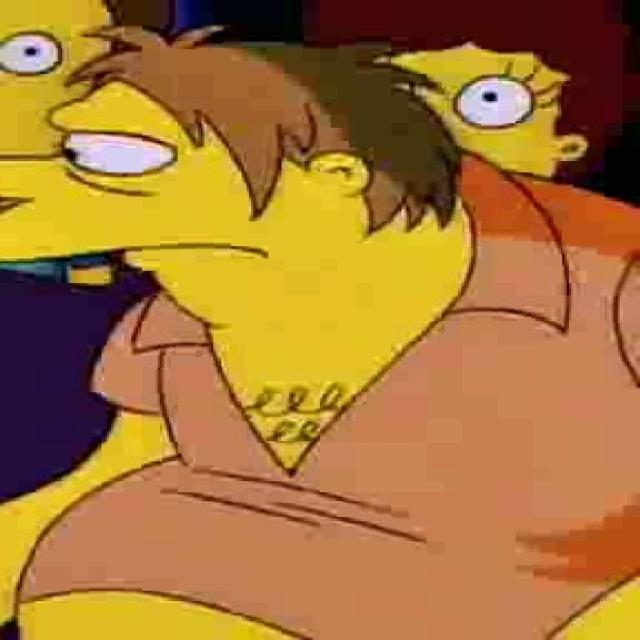Barney Gumble: (0, 13, 467, 341)
